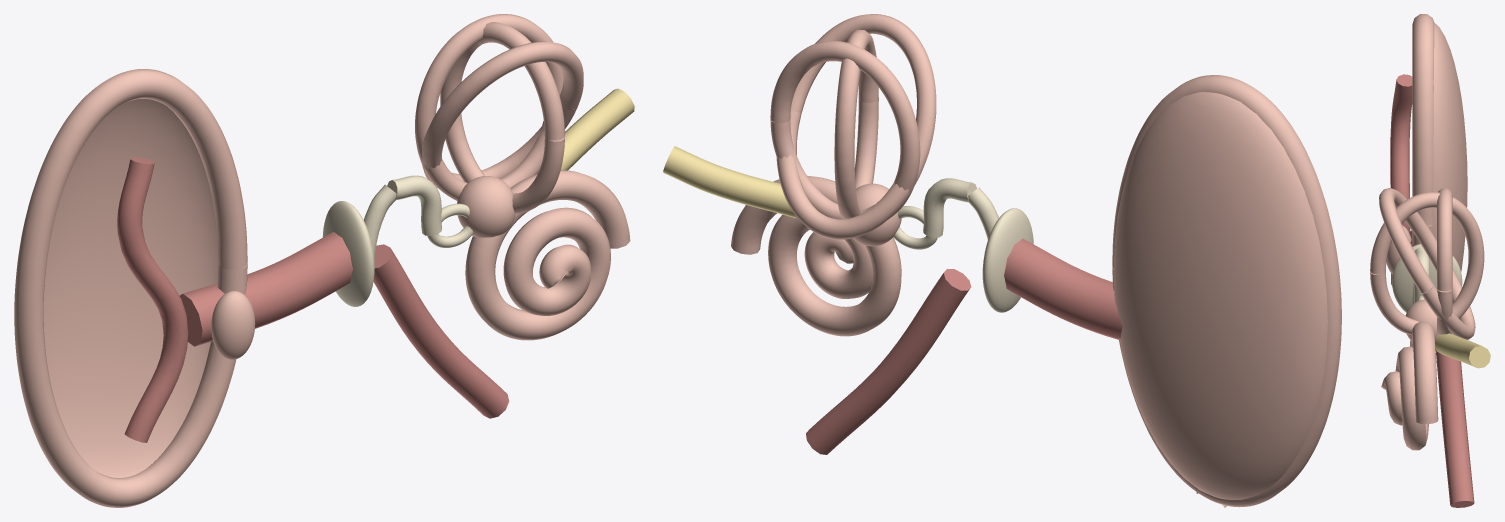
The model's file is ear.eb7050f0.glb.
3 renders of one model, left to right at view 1: azimuth 30°, elevation 25°; view 2: azimuth 150°, elevation 25°; view 3: azimuth 270°, elevation 25°, orthographic. The views are drawn at different scales.
Visible parts, largest first — view 1: Auricle, Helix, Cochlea, Antihelix, Ear canal, Auditory tube, Semicircular canal 1, Semicircular canal 2, Semicircular canal 0, Tympanic membrane, Vestibule, Vestibulocochlear nerve (+4 smaller); view 2: Auricle, Cochlea, Helix, Semicircular canal 1, Semicircular canal 0, Auditory tube, Ear canal, Semicircular canal 2, Vestibulocochlear nerve, Tympanic membrane, Incus, Vestibule (+2 smaller); view 3: Auricle, Cochlea, Semicircular canal 2, Helix, Semicircular canal 1, Auditory tube, Antihelix, Semicircular canal 0, Vestibulocochlear nerve, Tympanic membrane, Vestibule, Incus (+1 smaller).
Part boxes in pixels (<box>): Auricle: <box>43,99,218,477</box>; Helix: <box>14,69,247,507</box>; Cochlea: <box>465,170,630,340</box>; Antihelix: <box>117,157,188,442</box>; Ear canal: <box>180,232,352,346</box>; Auditory tube: <box>373,244,509,418</box>; Semicircular canal 1: <box>422,41,583,187</box>; Semicircular canal 2: <box>440,22,564,214</box>; Semicircular canal 0: <box>415,14,563,200</box>; Tympanic membrane: <box>322,201,374,306</box>; Vestibule: <box>457,176,515,237</box>; Vestibulocochlear nerve: <box>561,88,634,170</box>; Auricle: <box>1113,92,1327,507</box>; Cochlea: <box>731,175,901,336</box>; Helix: <box>1112,75,1341,507</box>; Semicircular canal 1: <box>776,14,936,239</box>; Semicircular canal 0: <box>770,41,920,219</box>; Auditory tube: <box>806,269,971,454</box>; Ear canal: <box>1004,238,1122,339</box>; Semicircular canal 2: <box>834,29,878,218</box>; Vestibulocochlear nerve: <box>663,146,796,218</box>; Tympanic membrane: <box>982,208,1033,312</box>; Incus: <box>923,178,976,237</box>; Vestibule: <box>853,183,901,246</box>; Auricle: <box>1433,23,1467,271</box>; Cochlea: <box>1381,321,1438,450</box>; Semicircular canal 2: <box>1370,192,1484,335</box>; Helix: <box>1412,14,1434,245</box>; Semicircular canal 1: <box>1379,188,1475,339</box>; Auditory tube: <box>1435,334,1474,507</box>; Antihelix: <box>1390,74,1412,285</box>; Semicircular canal 0: <box>1437,188,1452,335</box>; Vestibulocochlear nerve: <box>1435,333,1490,368</box>; Tympanic membrane: <box>1392,244,1462,312</box>; Vestibule: <box>1405,299,1437,340</box>; Incus: <box>1414,247,1429,303</box>.
Bounding box in the file's own units: 3.8 × 2.55 × 0.8048.
